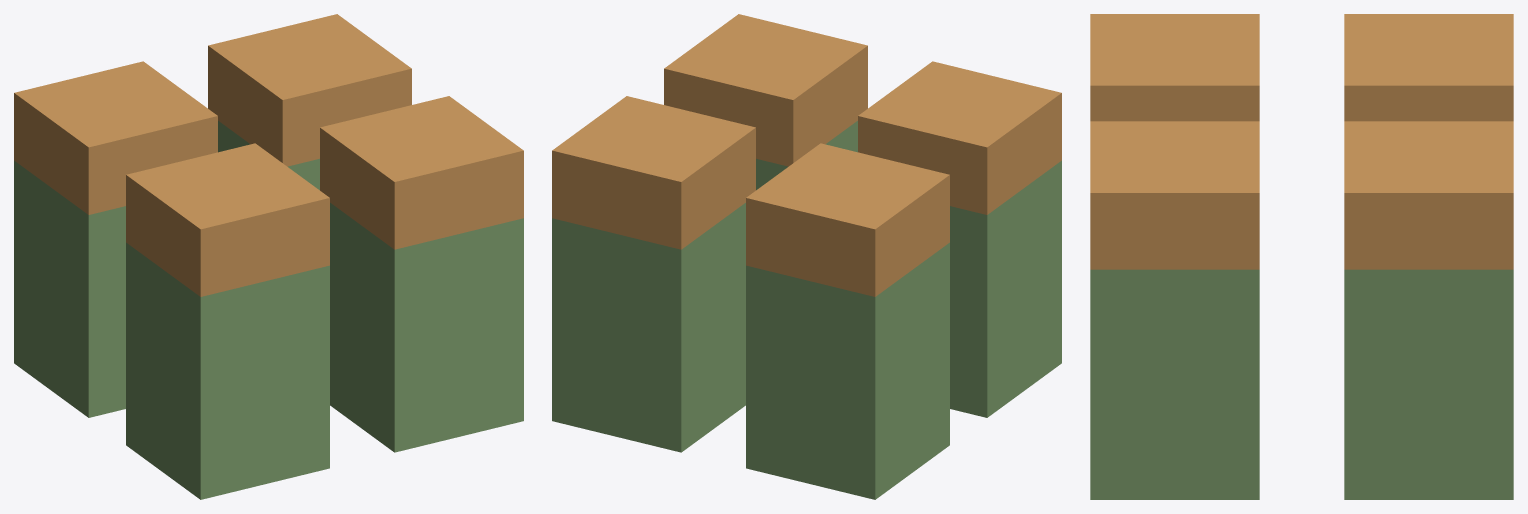
File: culture_carottes.glb
3 views of the same model, side by side, from view 1: azimuth 30°, elevation 25°; view 2: azimuth 150°, elevation 25°; view 3: azimuth 270°, elevation 25° (orthographic). The views are drawn at different scales.
Parts seen in each view (by area): view 1: geometry_0; view 2: geometry_0; view 3: geometry_0.
Part boxes in pixels (x1,y1,x2,y2): geometry_0: [14, 14, 523, 499]; geometry_0: [552, 14, 1061, 499]; geometry_0: [1090, 14, 1513, 499].
Bounding box in the file's own units: 0.625 × 0.5 × 0.625.
